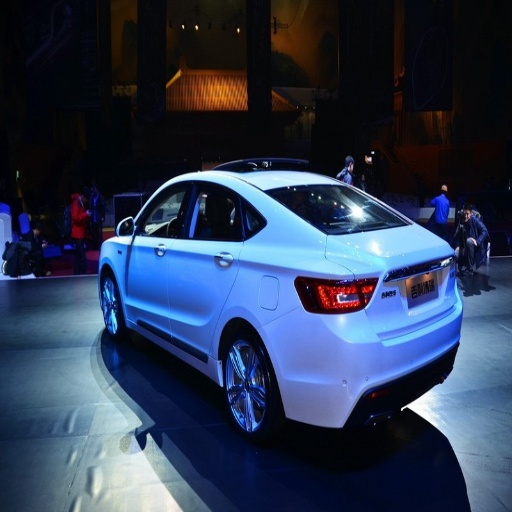back_bumper: (267, 290, 462, 430)
back_glass: (265, 184, 410, 234)
back_left_door: (168, 179, 243, 360)
tailgate: (335, 225, 452, 340)
